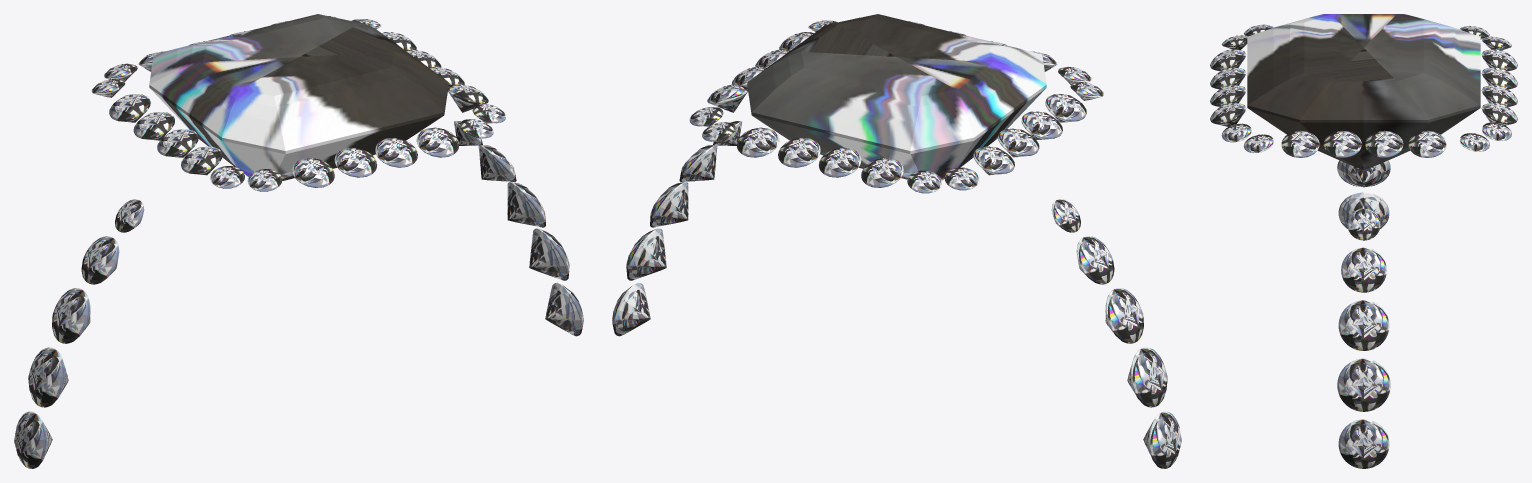
The picture shows the model from 3 angles, left to right: view 1: azimuth 30°, elevation 25°; view 2: azimuth 150°, elevation 25°; view 3: azimuth 270°, elevation 25°; orthographic projection. The views are drawn at different scales.
Visible parts, largest first — view 1: Object_36, Object_8, Object_9, Object_7, Object_3, Object_1, Object_10, Object_4, Object_5, Object_28, Object_31, Object_29 (+9 smaller); view 2: Object_36, Object_8, Object_9, Object_7, Object_3, Object_1, Object_10, Object_4, Object_5, Object_32, Object_35, Object_33 (+9 smaller); view 3: Object_36, Object_3, Object_4, Object_1, Object_5, Object_7, Object_8, Object_6, Object_22, Object_23, Object_21, Object_20 (+12 smaller).
Part boxes in pixels (left/top/right/bottom): Object_36: left=149, top=14, right=448, bottom=180; Object_8: left=28, top=347, right=68, bottom=407; Object_9: left=52, top=288, right=90, bottom=343; Object_7: left=14, top=411, right=52, bottom=468; Object_3: left=529, top=228, right=569, bottom=280; Object_1: left=545, top=282, right=583, bottom=336; Object_10: left=81, top=236, right=119, bottom=284; Object_4: left=507, top=181, right=545, bottom=227; Object_5: left=478, top=145, right=516, bottom=181; Object_28: left=416, top=127, right=459, bottom=157; Object_31: left=375, top=137, right=417, bottom=167; Object_29: left=292, top=158, right=334, bottom=187; Object_36: left=747, top=14, right=1046, bottom=180; Object_8: left=1127, top=347, right=1167, bottom=407; Object_9: left=1105, top=288, right=1143, bottom=343; Object_7: left=1143, top=411, right=1181, bottom=468; Object_3: left=626, top=228, right=666, bottom=280; Object_1: left=612, top=282, right=650, bottom=336; Object_10: left=1076, top=236, right=1114, bottom=284; Object_4: left=650, top=181, right=688, bottom=227; Object_5: left=679, top=145, right=717, bottom=181; Object_32: left=736, top=127, right=779, bottom=157; Object_35: left=778, top=137, right=820, bottom=167; Object_33: left=861, top=158, right=903, bottom=187; Object_36: left=1247, top=14, right=1480, bottom=169; Object_3: left=1337, top=358, right=1390, bottom=411; Object_4: left=1338, top=300, right=1389, bottom=350; Object_1: left=1338, top=419, right=1389, bottom=468; Object_5: left=1341, top=247, right=1386, bottom=292; Object_7: left=1338, top=192, right=1389, bottom=228; Object_8: left=1337, top=160, right=1390, bottom=187; Object_6: left=1347, top=209, right=1380, bottom=240; Object_22: left=1408, top=130, right=1446, bottom=157; Object_23: left=1281, top=130, right=1319, bottom=157; Object_21: left=1365, top=130, right=1403, bottom=157; Object_20: left=1323, top=130, right=1361, bottom=157.
Bounding box in the file's own units: 22.36 × 12.12 × 13.18.
1 material, 1 textured.
